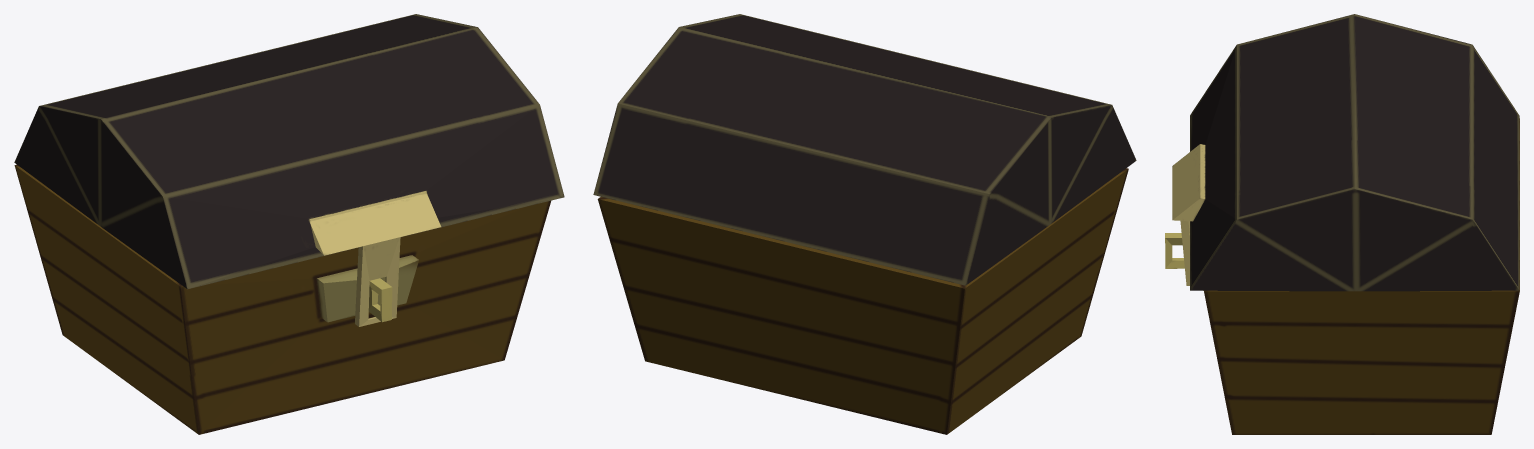
File: Treasure Chest.fbx
3 renders of one model, left to right at view 1: azimuth 30°, elevation 25°; view 2: azimuth 150°, elevation 25°; view 3: azimuth 270°, elevation 25°, orthographic. The views are drawn at different scales.
Parts seen in each view (by area): view 1: TC_TOP, TC_BOTTOM; view 2: TC_TOP, TC_BOTTOM; view 3: TC_TOP, TC_BOTTOM.
Boxes of the visible parts, box(x1,y1,x2,y2) form: TC_TOP: box(14, 14, 564, 326); TC_BOTTOM: box(14, 164, 550, 434); TC_TOP: box(593, 14, 1136, 285); TC_BOTTOM: box(597, 168, 1128, 434); TC_TOP: box(1172, 14, 1519, 291); TC_BOTTOM: box(1165, 118, 1519, 434).
Bounding box in the file's own units: 11.68 × 8.19 × 10.
